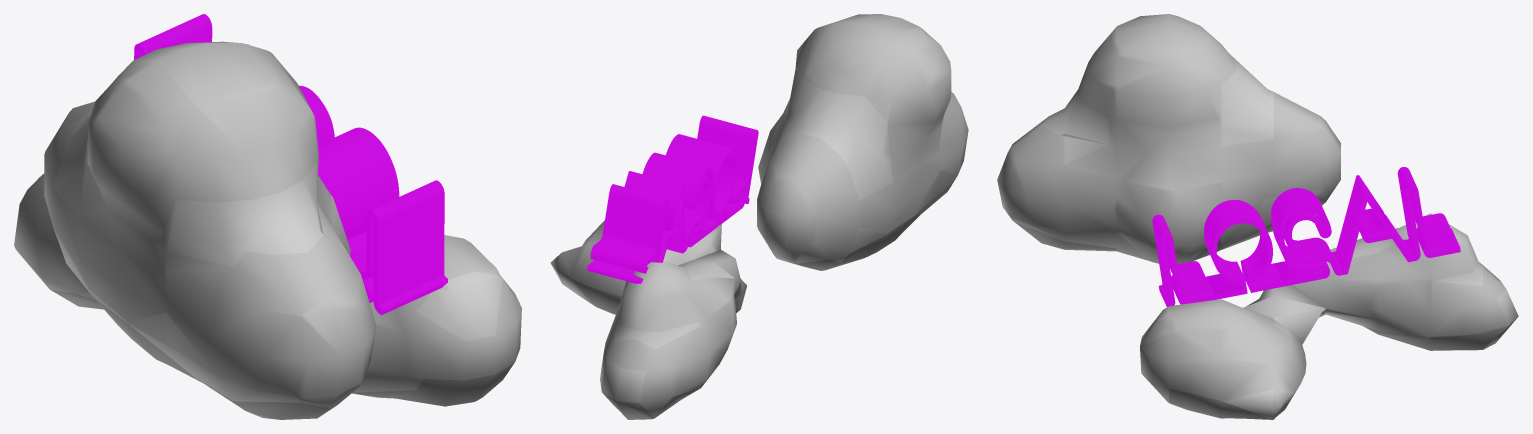
The model's file is clouds_local.glb.
3 renders of one model, left to right at view 1: azimuth 30°, elevation 25°; view 2: azimuth 150°, elevation 25°; view 3: azimuth 270°, elevation 25°, orthographic. The views are drawn at different scales.
Parts seen in each view (by area): view 1: Mball.009, Text; view 2: Mball.009, Text; view 3: Mball.009, Text.
Part boxes in pixels (left/top/right/bottom): Mball.009: left=14, top=41, right=521, bottom=419; Text: left=134, top=14, right=447, bottom=315; Mball.009: left=550, top=14, right=968, bottom=419; Text: left=587, top=115, right=758, bottom=283; Mball.009: left=997, top=14, right=1518, bottom=419; Text: left=1152, top=167, right=1460, bottom=307.
Size of the model in its own units: 13.7 by 11.91 by 18.89.
